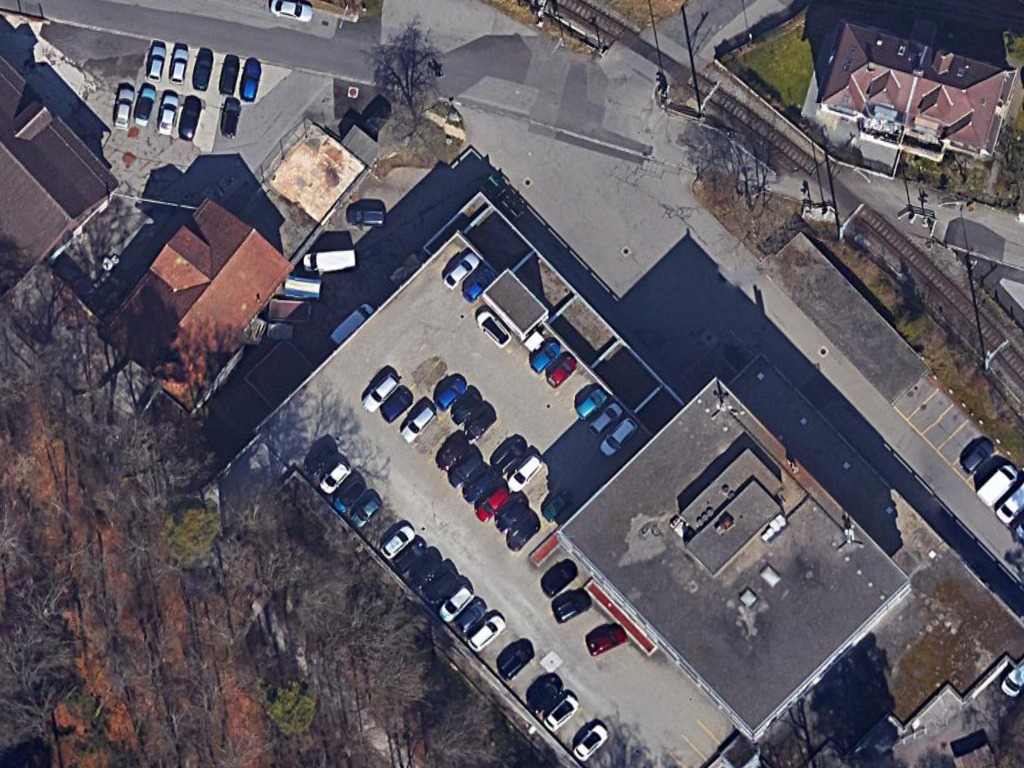car: (595, 413, 641, 463), (469, 306, 516, 353), (356, 367, 402, 415), (396, 397, 440, 446), (538, 690, 583, 736), (463, 610, 507, 657), (427, 371, 470, 415), (439, 245, 480, 291), (581, 623, 630, 660), (569, 721, 611, 764), (376, 520, 418, 562), (507, 450, 545, 495), (347, 490, 386, 533), (435, 583, 475, 624), (525, 337, 566, 375), (316, 456, 353, 498), (541, 352, 580, 391), (153, 86, 182, 136), (238, 55, 266, 106), (340, 202, 391, 230), (572, 386, 610, 422), (111, 80, 138, 130), (268, 0, 317, 25), (167, 42, 191, 89), (143, 42, 168, 86)
van: (969, 459, 1020, 513), (297, 243, 358, 278)
